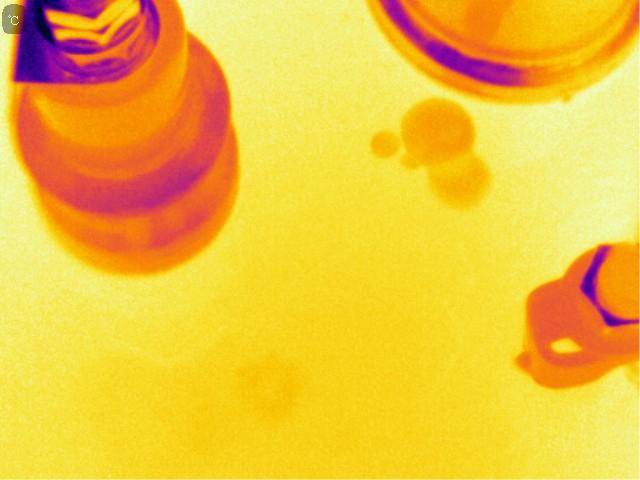Oil: (363, 94, 491, 210)
